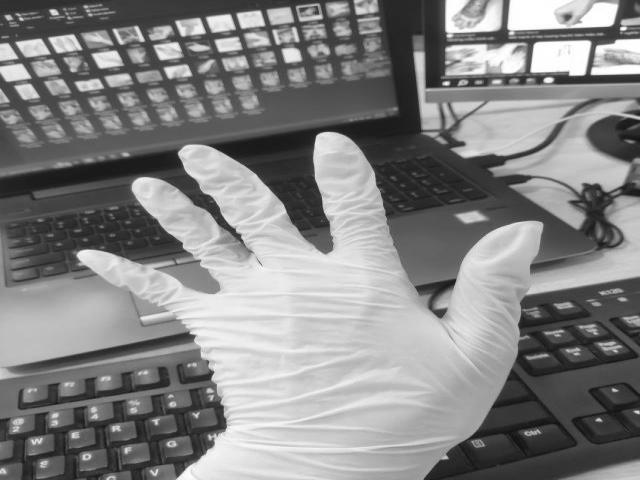gloved: (82, 133, 543, 480)
